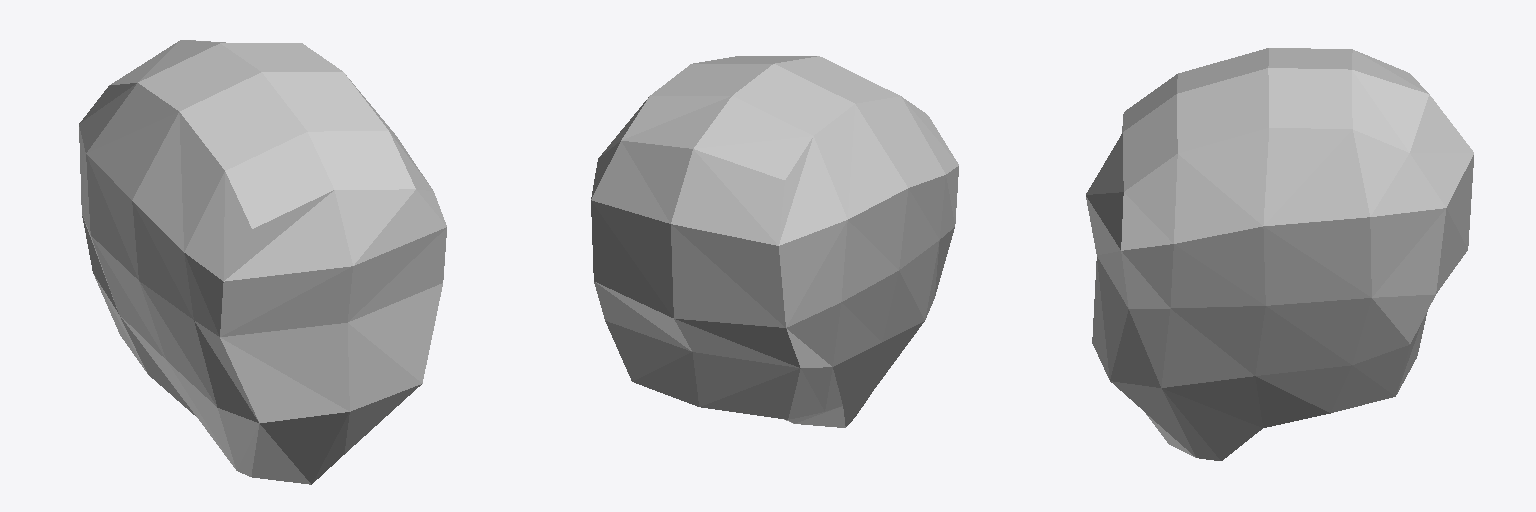
File: Head.obj
3 views of the same model, side by side, from view 1: azimuth 30°, elevation 25°; view 2: azimuth 150°, elevation 25°; view 3: azimuth 270°, elevation 25° (orthographic).
Parts seen in each view (by area): view 1: Head; view 2: Head; view 3: Head.
Boxes of the visible parts, box(x1,y1,x2,y2) form: Head: box(79, 40, 446, 484); Head: box(591, 56, 958, 427); Head: box(1086, 48, 1473, 460).
Size of the model in its own units: 0.1947 by 0.2648 by 0.2481.